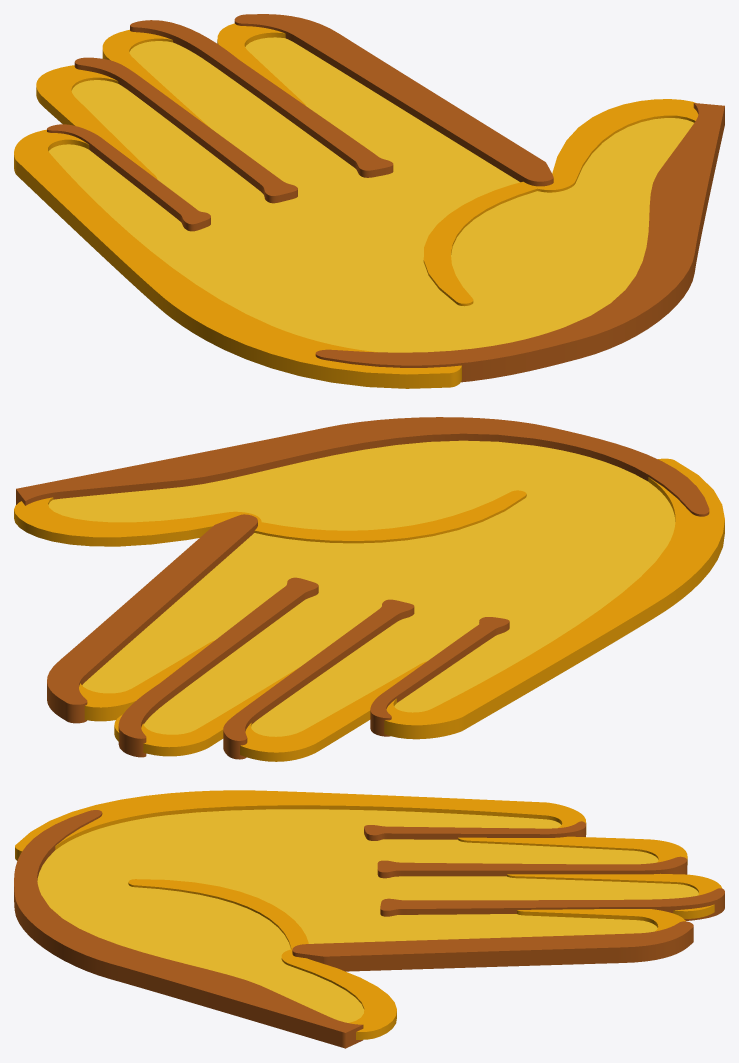
Rendered from emoji_u270b.glb.
3 renders of one model, top to bottom at view 1: azimuth 30°, elevation 25°; view 2: azimuth 150°, elevation 25°; view 3: azimuth 270°, elevation 25°, orthographic. The views are drawn at different scales.
Visible parts, largest first — view 1: emoji_u270b; view 2: emoji_u270b; view 3: emoji_u270b.
Part boxes in pixels (box(x1,y1,x2,y2)): emoji_u270b: box(14, 14, 724, 388); emoji_u270b: box(14, 417, 724, 761); emoji_u270b: box(14, 790, 724, 1048).
Size of the model in its own units: 0.0269 by 0.0008 by 0.033.
